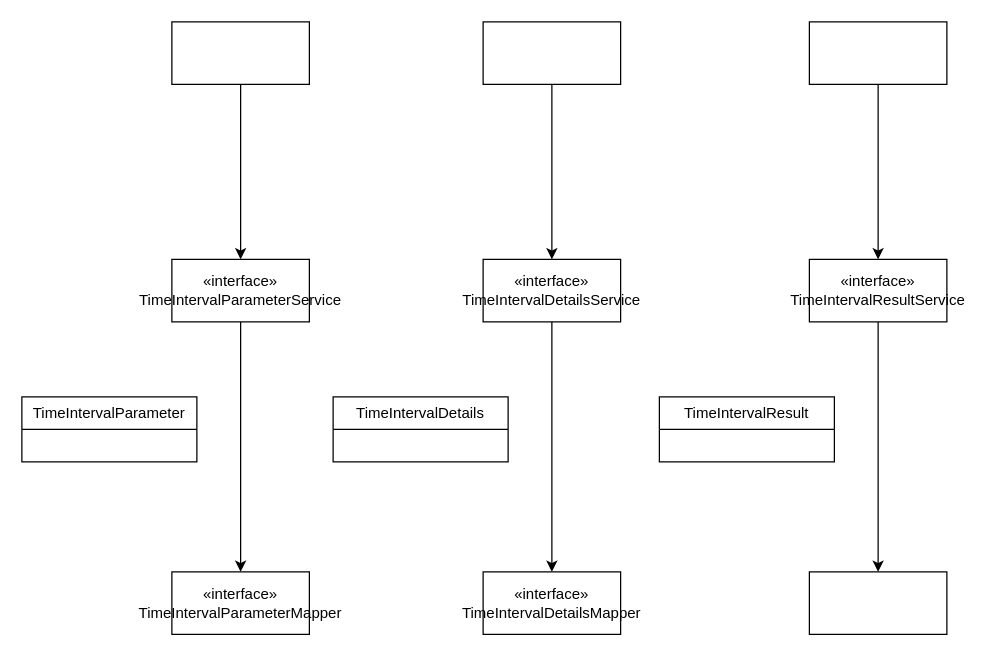
Some shapes in this 995 by 656 pixel diagram are drawn without their labels. Each missing label, with the centre of its shape:
"TimeIntervalResultController" belongs at (x=877, y=52).
"«interface» TimeIntervalDetailsController" belongs at (x=551, y=52).
"«interface» TimeIntervalParameterController" belongs at (x=240, y=52).
"«interface» TimeIntervalResultMapper" belongs at (x=877, y=602).
